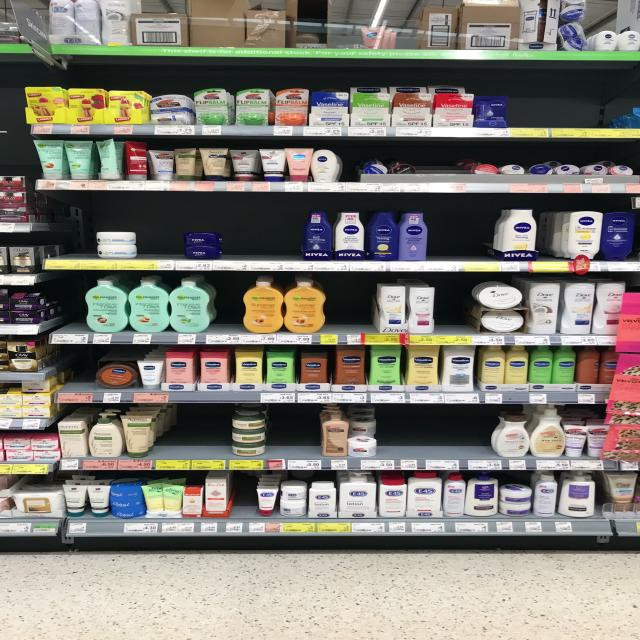void: (45, 191, 95, 269), (256, 193, 297, 272), (142, 192, 181, 270), (271, 404, 315, 470), (330, 270, 372, 334), (603, 62, 637, 139), (466, 193, 497, 272), (382, 404, 420, 468), (456, 406, 494, 470), (539, 60, 569, 138), (192, 402, 225, 472), (225, 193, 252, 272), (434, 194, 461, 272), (442, 279, 471, 345), (511, 63, 536, 138), (574, 61, 598, 139), (159, 402, 186, 471), (302, 0, 334, 58), (424, 403, 451, 471), (52, 280, 80, 345), (214, 273, 238, 345), (370, 0, 400, 57), (57, 353, 90, 404), (421, 139, 469, 174), (339, 0, 366, 58), (544, 205, 566, 273), (231, 472, 254, 536), (400, 0, 421, 59), (343, 146, 363, 191)
